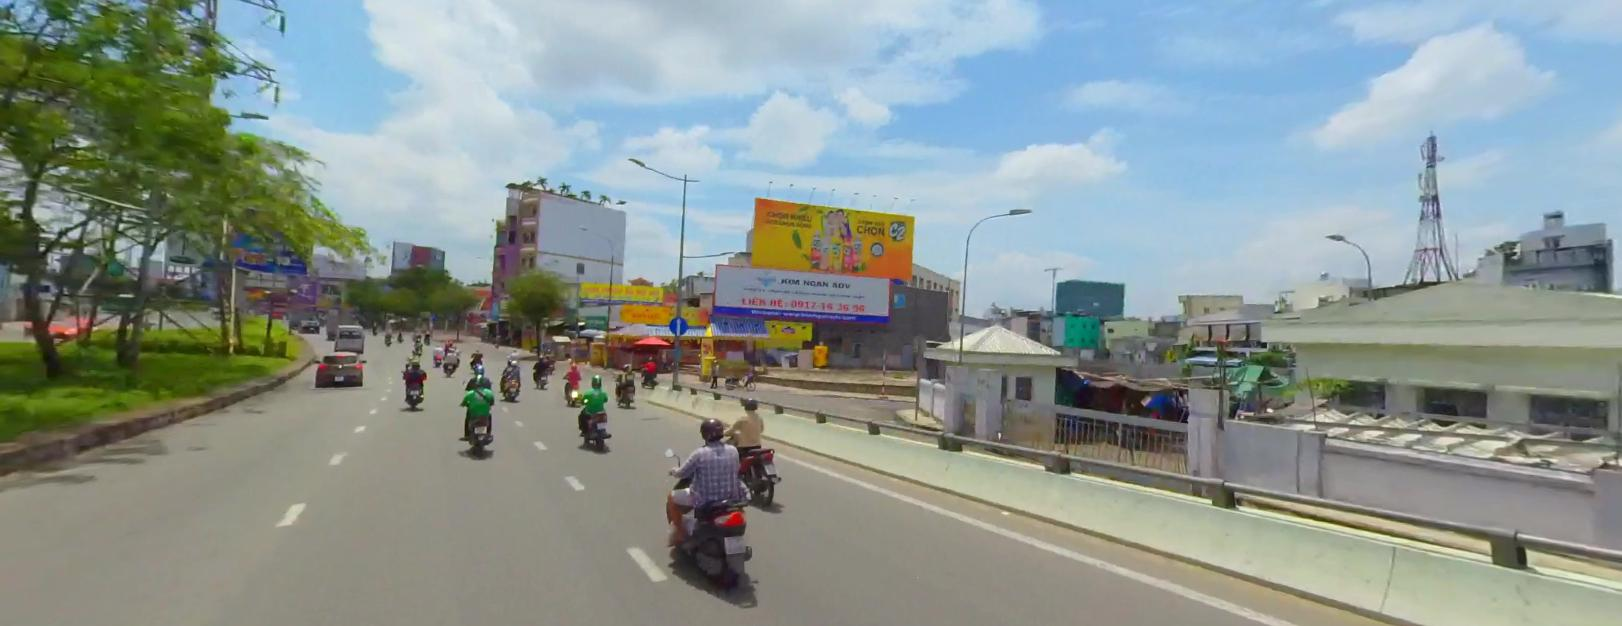Hieu lenh: (669, 314, 687, 333)
